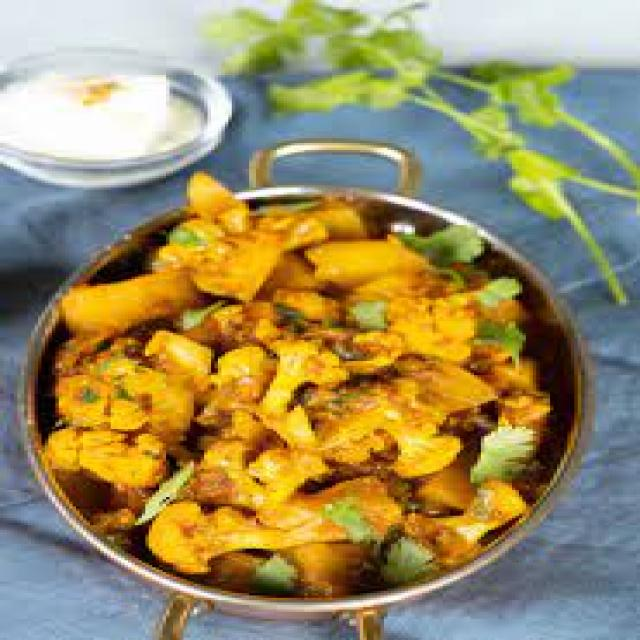Aloo Gobi: (19, 210, 616, 592)
